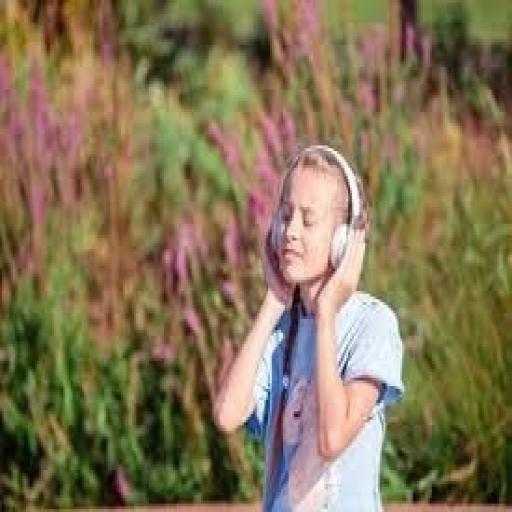listening_to_music: (210, 140, 408, 509)
